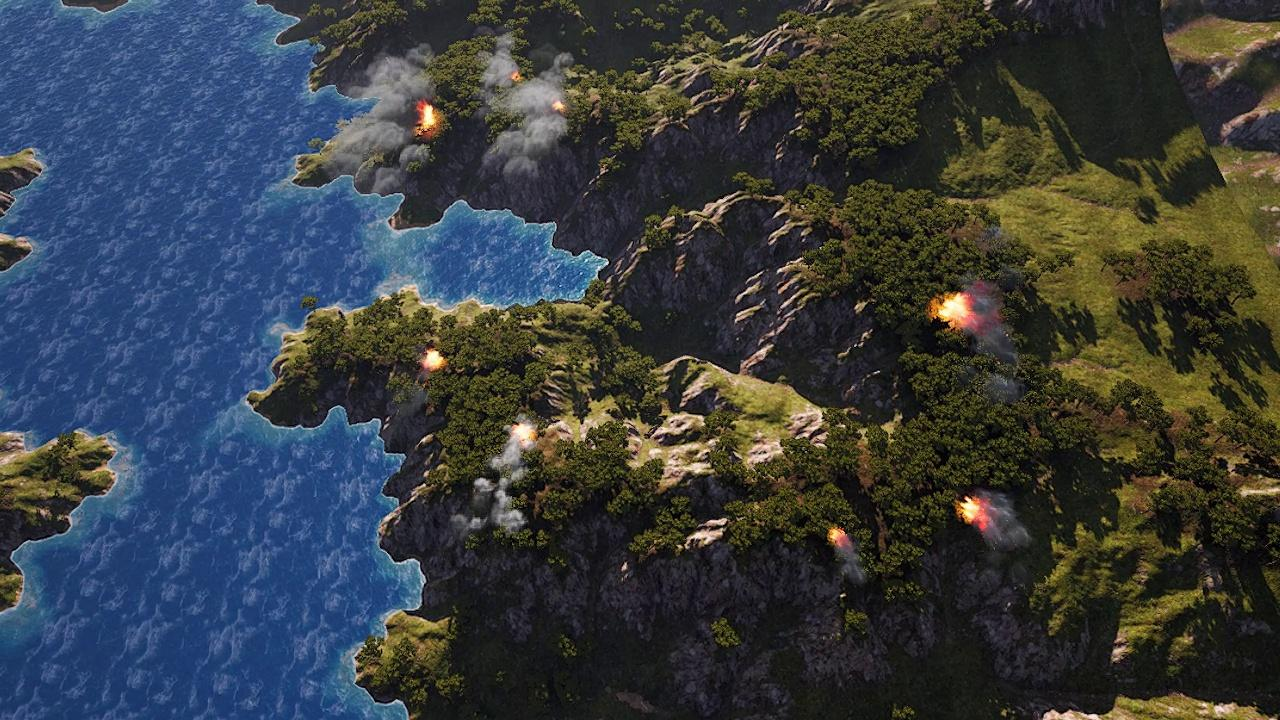fire: (939, 294, 975, 325), (958, 497, 989, 528), (418, 102, 439, 131), (422, 352, 443, 369), (512, 425, 533, 442), (829, 527, 847, 545), (552, 100, 568, 116), (507, 70, 523, 84)
smoke: (338, 41, 438, 190), (486, 36, 578, 177), (456, 414, 543, 539), (962, 266, 1026, 405), (977, 486, 1029, 550), (833, 539, 866, 586)
